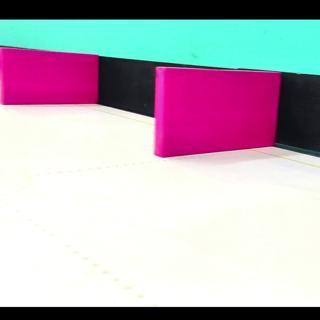xparking: (160, 70, 283, 157), (2, 55, 96, 103)
